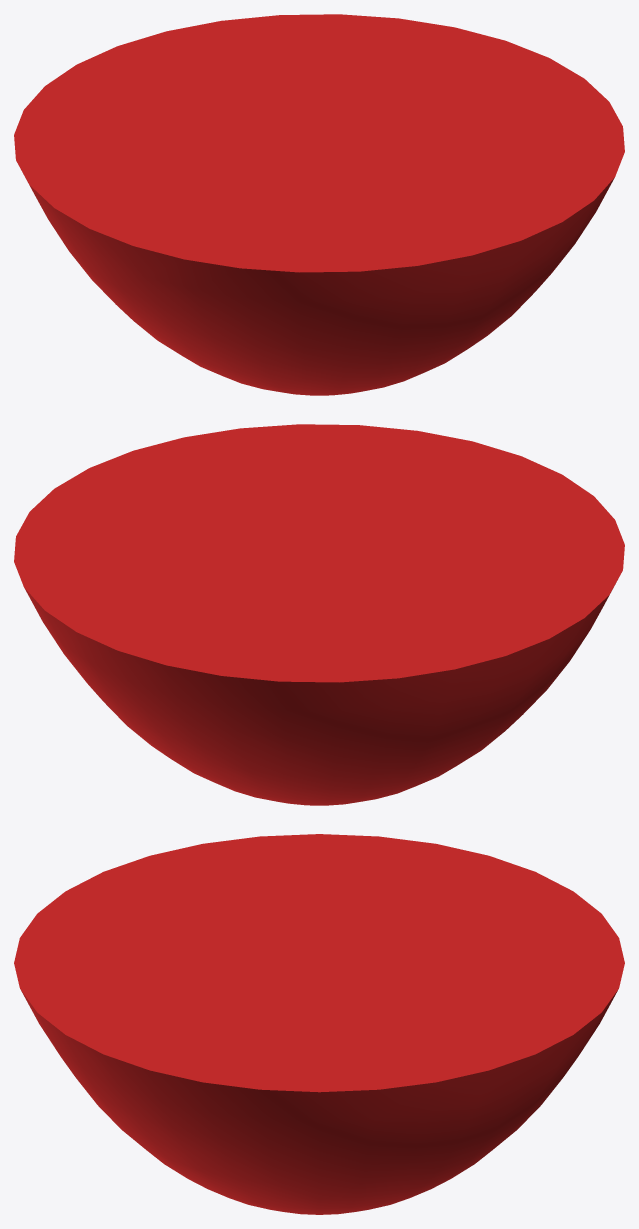
File: EV_BombNose.fbx
3 views of the same model, one above another, from view 1: azimuth 30°, elevation 25°; view 2: azimuth 150°, elevation 25°; view 3: azimuth 270°, elevation 25° (orthographic).
Visible parts, largest first — view 1: EV_BombNose; view 2: EV_BombNose; view 3: EV_BombNose.
Boxes of the visible parts, bbox=[...] form: EV_BombNose: bbox=[14, 14, 624, 395]; EV_BombNose: bbox=[14, 424, 624, 805]; EV_BombNose: bbox=[14, 834, 624, 1214].
Bounding box in the file's own units: 1.26 × 0.52 × 1.26.
